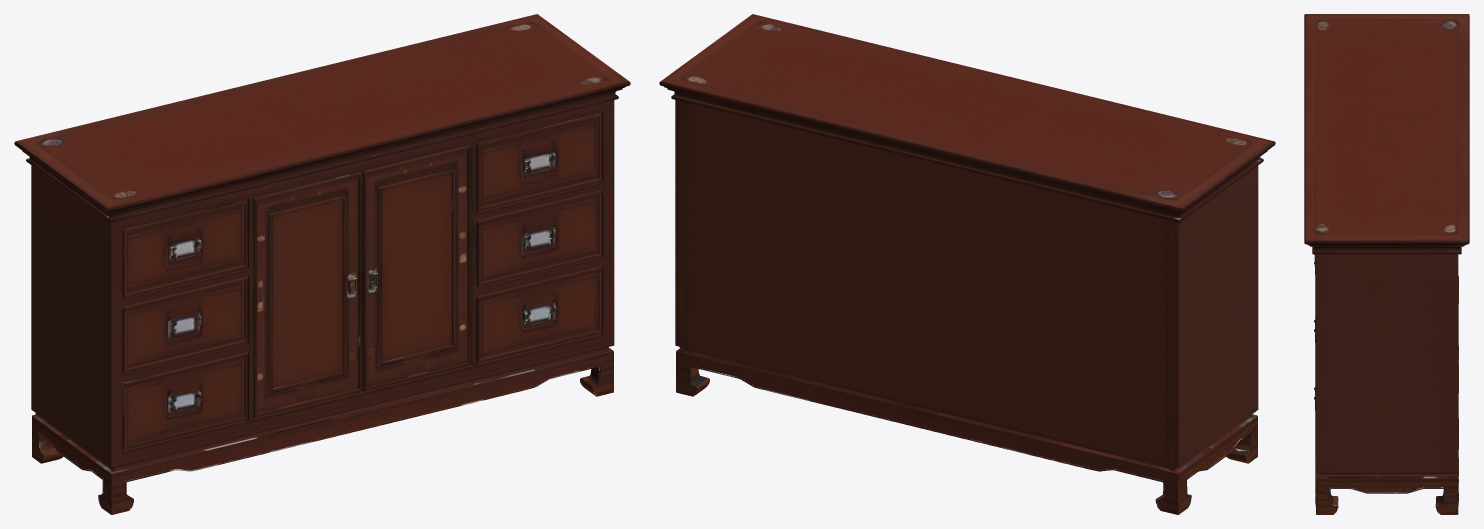
The model's file is edited_mesh.glb.
3 views of the same model, side by side, from view 1: azimuth 30°, elevation 25°; view 2: azimuth 150°, elevation 25°; view 3: azimuth 270°, elevation 25° (orthographic). The views are drawn at different scales.
Visible parts, largest first — view 1: solid_001_wire; view 2: solid_001_wire; view 3: solid_001_wire.
Boxes of the visible parts, <box> form: solid_001_wire: <box>14,14,630,514</box>; solid_001_wire: <box>659,14,1275,514</box>; solid_001_wire: <box>1304,14,1469,514</box>.
Size of the model in its own units: 1.86 by 1.07 by 0.5733.
1 material, 1 textured.
